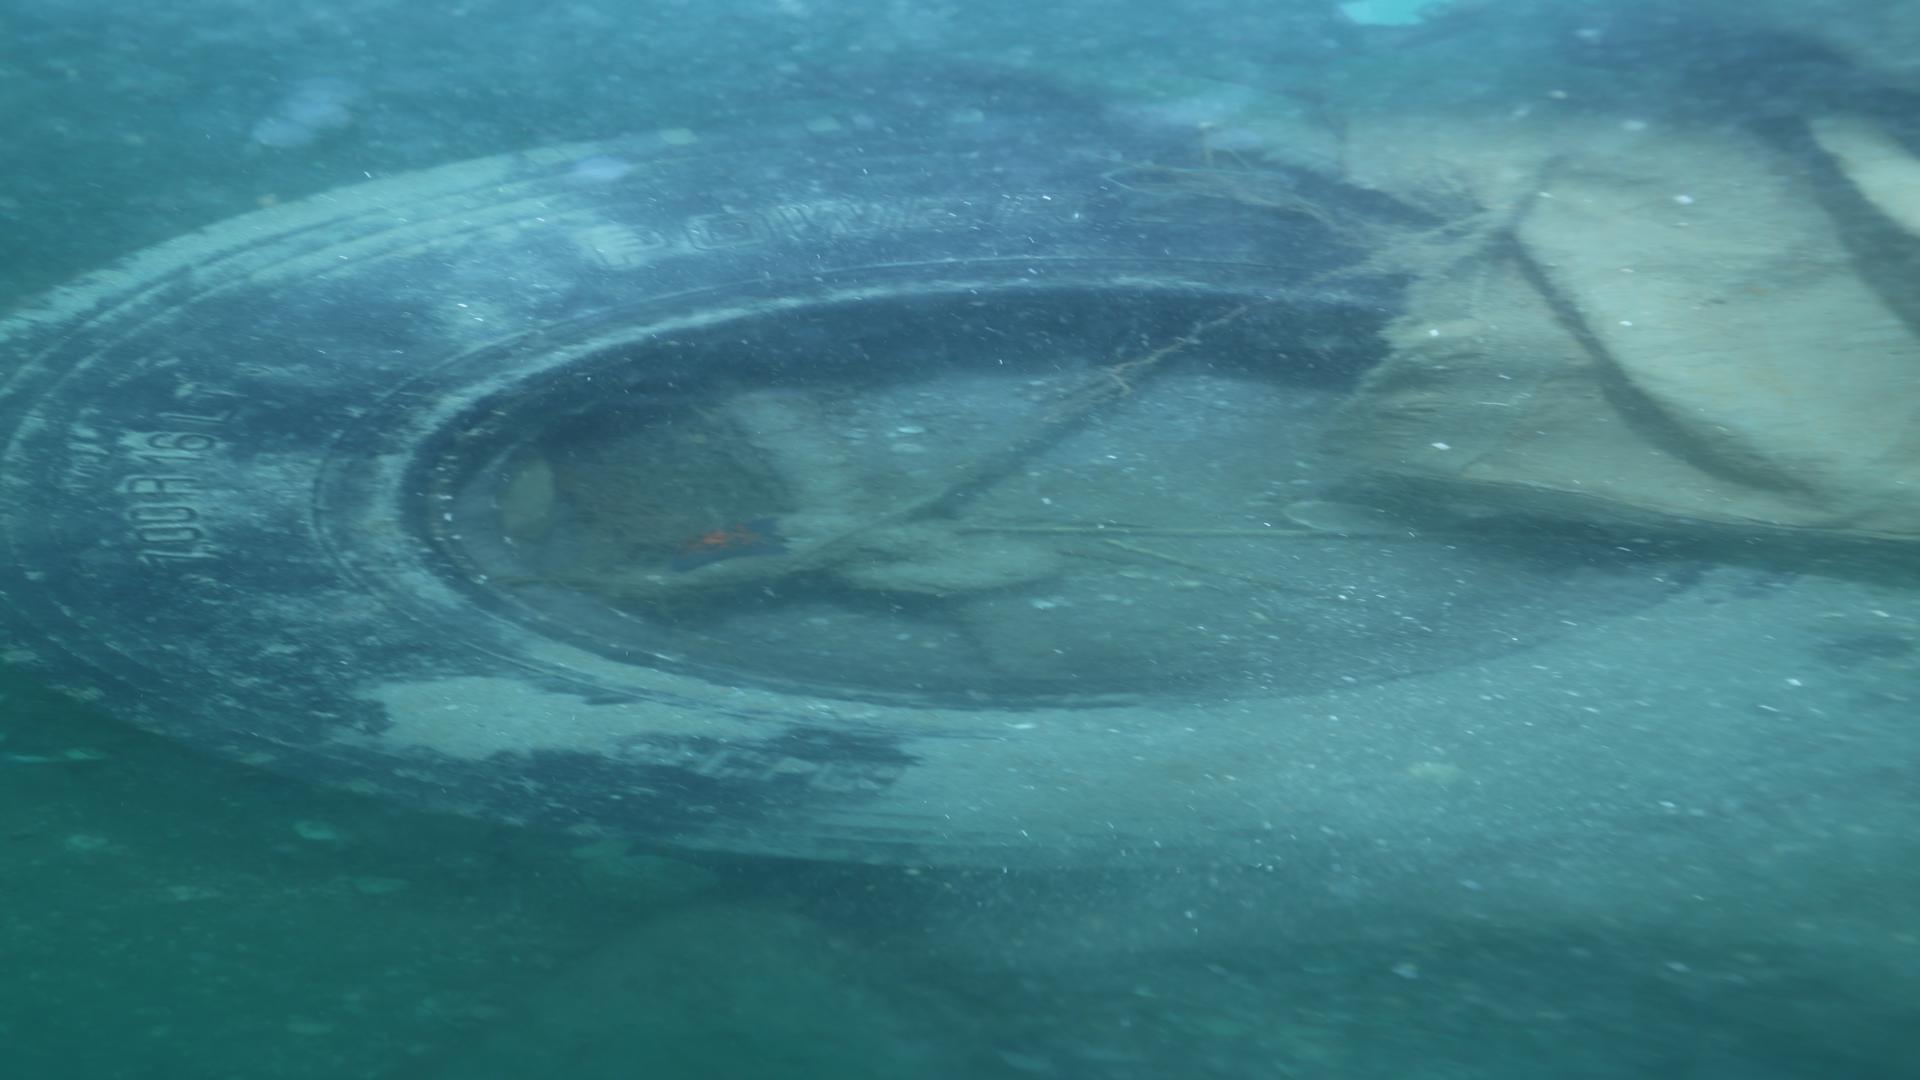tire: (3, 107, 1729, 860)
